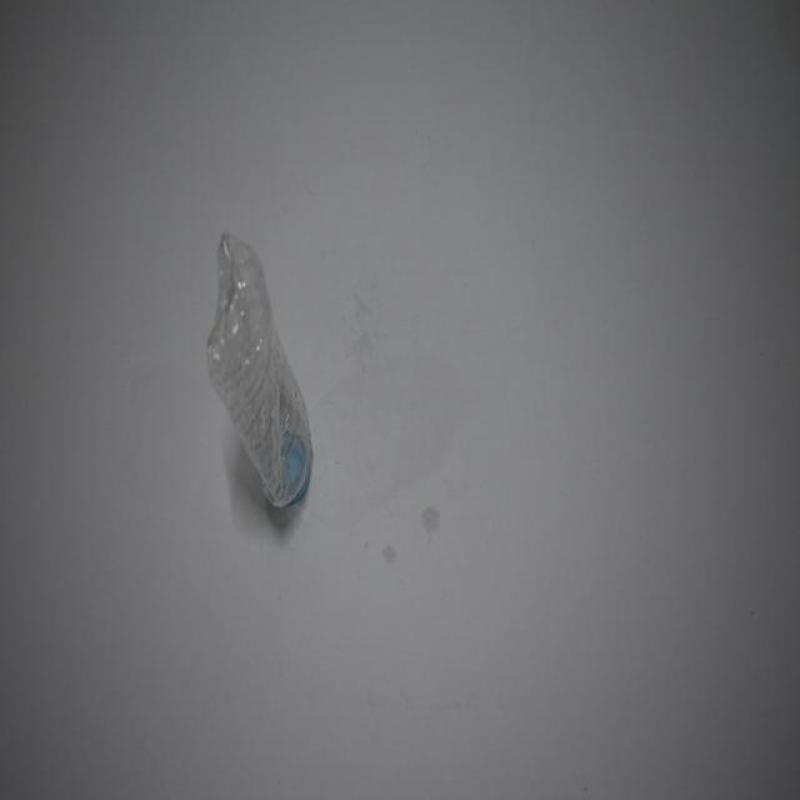botella: (207, 232, 314, 510)
